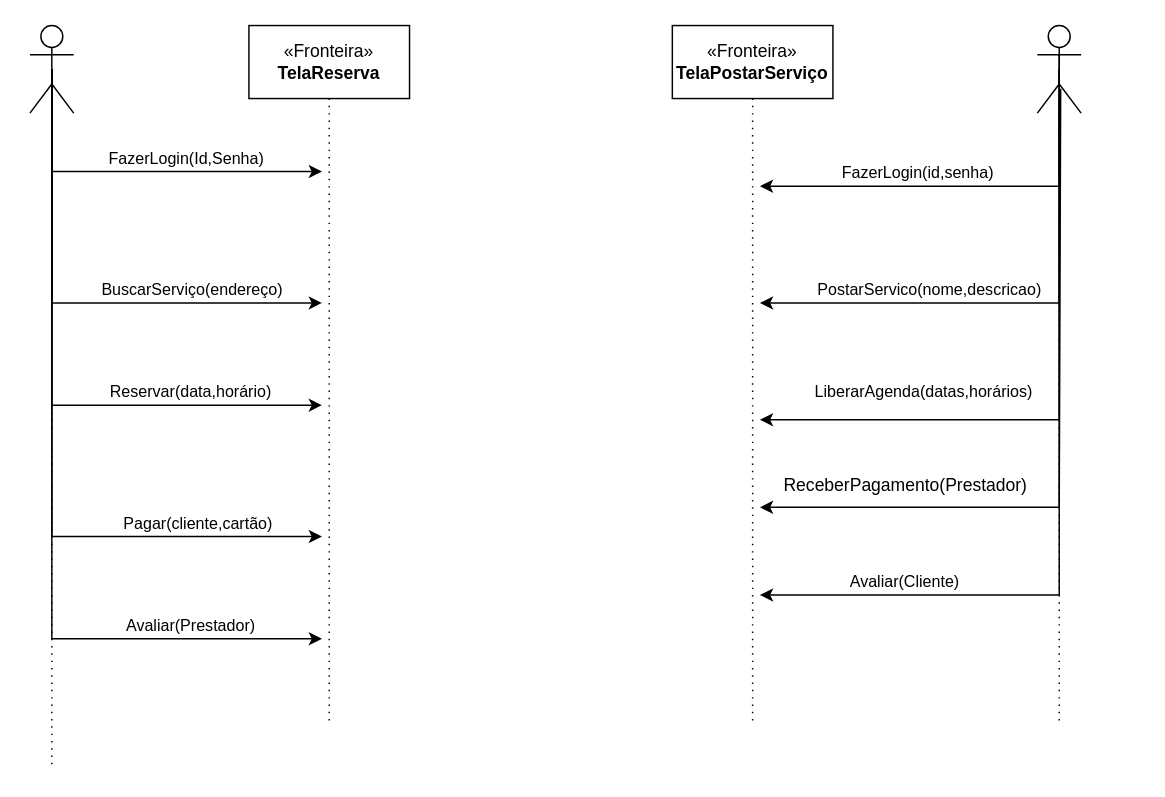
Some shapes in this 1165 by 797 pixel diagram are drawn without their labels. The box of each missing label's shape, as (x1, y1, x2, y2) in pixels:
Cliente: (28, 24, 74, 113)
Prestador de serviço: (1036, 24, 1081, 113)
